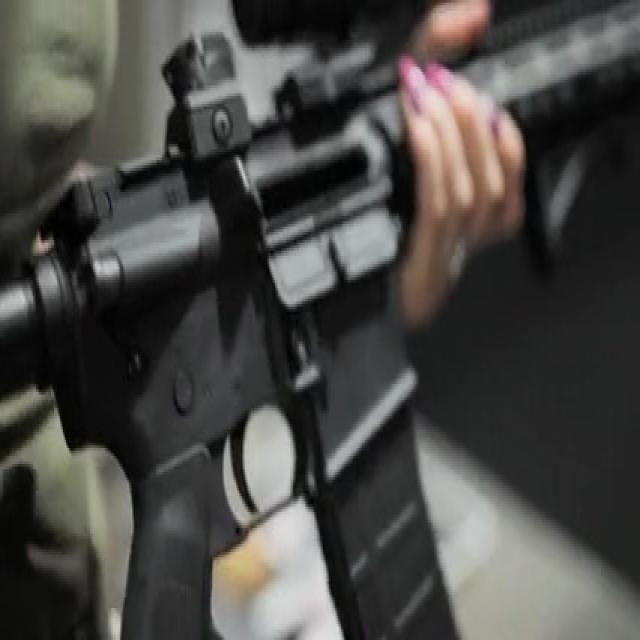Gun_Holder: (26, 0, 639, 640)
